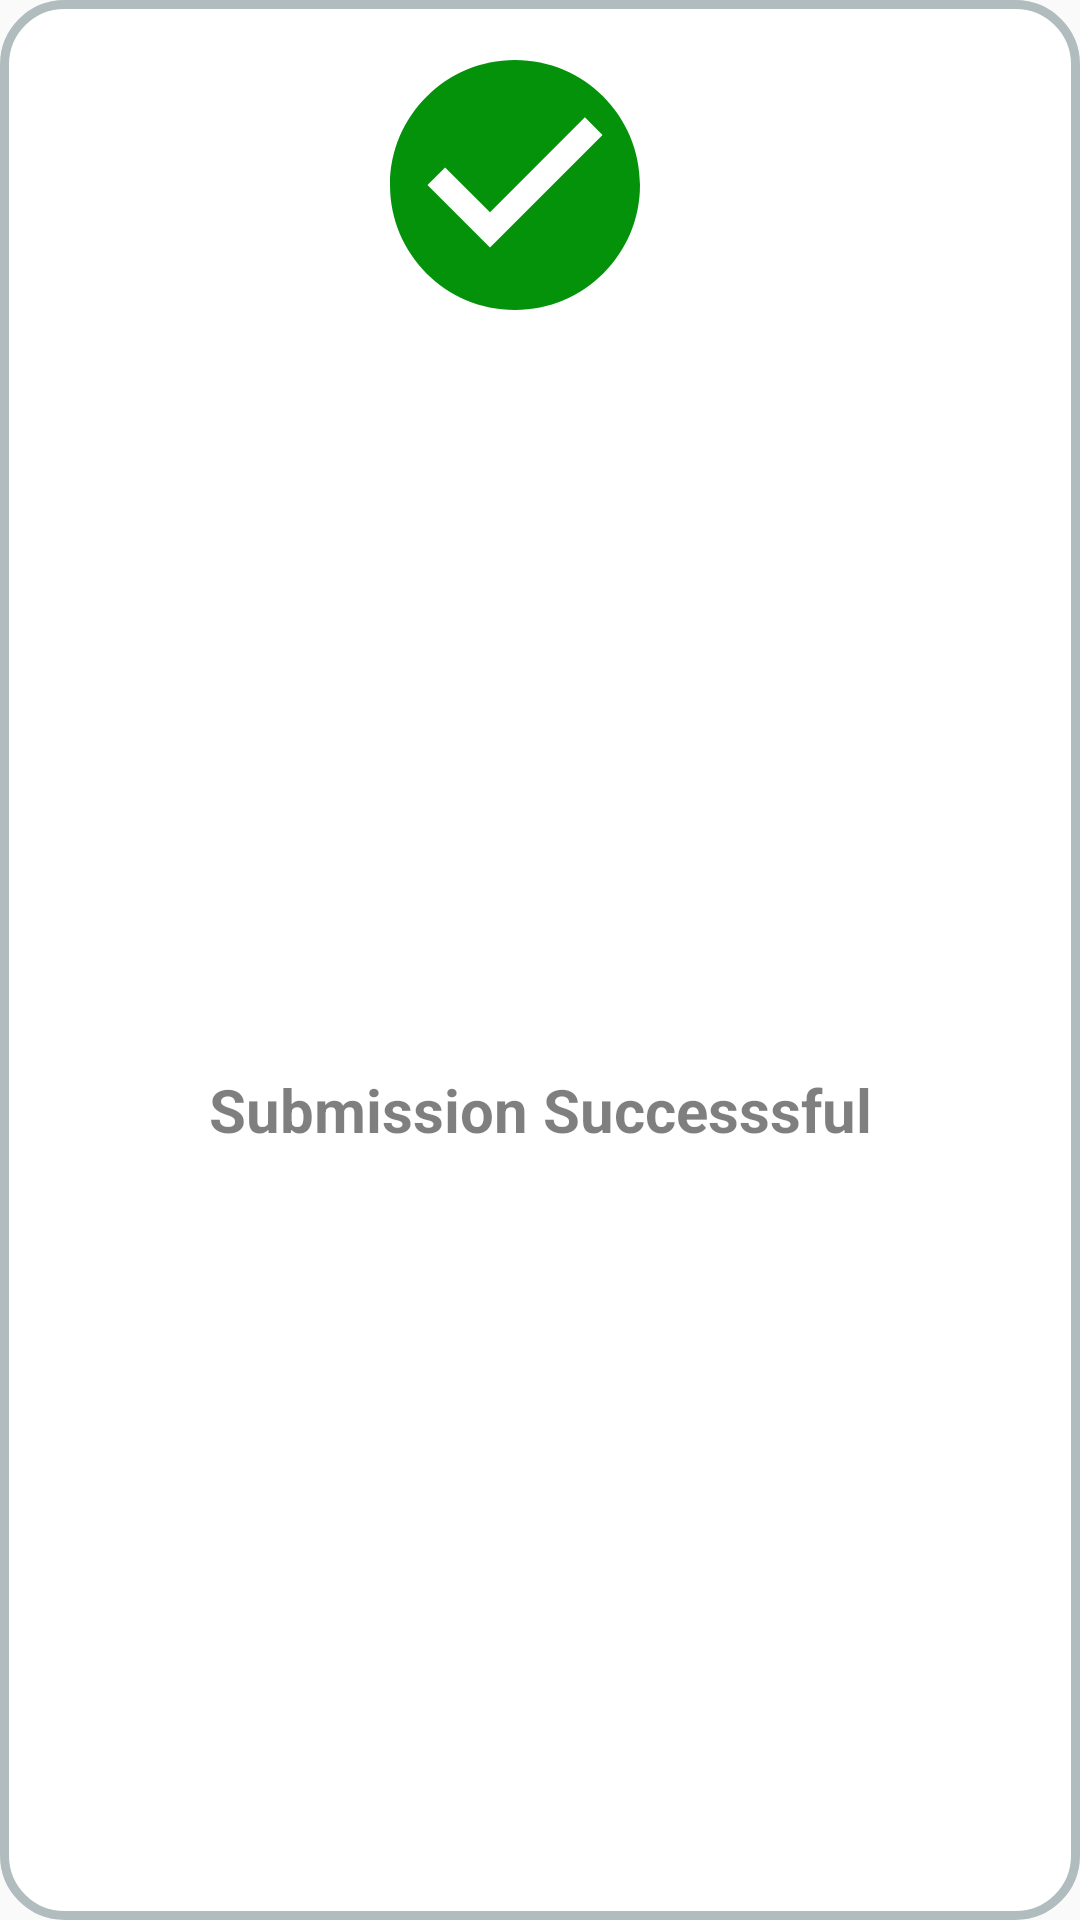

Where icons sit on this 1080px x 1920px app screen, as (x1, y1, x2, y2):
submit pass: (390, 60, 640, 310)
